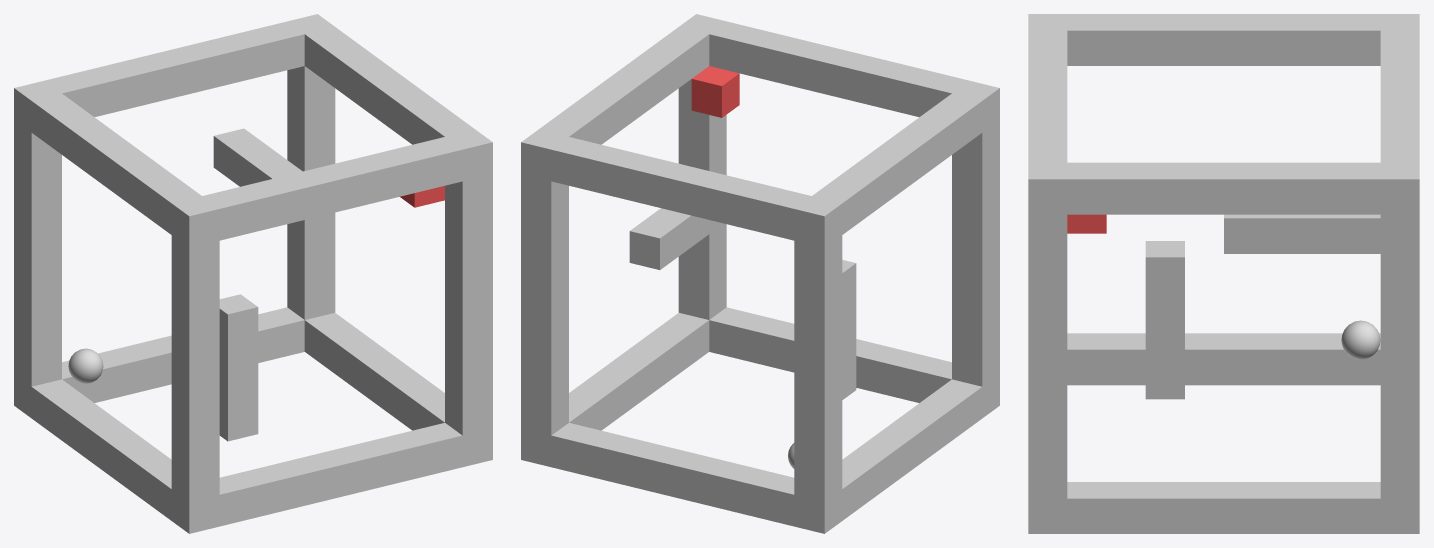
Rendered from plateau.fbx.
The picture shows the model from 3 angles, left to right: view 1: azimuth 30°, elevation 25°; view 2: azimuth 150°, elevation 25°; view 3: azimuth 270°, elevation 25°; orthographic projection. The views are drawn at different scales.
Parts seen in each view (by area): view 1: Cube, Cube_4, Cube_2, Cube_3, mure_haut, mure_haut_2, Sphère, arrive; view 2: Cube, Cube_2, Cube_4, Cube_3, mure_haut_2, arrive, mure_haut; view 3: Cube, Cube_2, Cube_4, mure_haut, mure_haut_2, Sphère, arrive.
Part boxes in pixels (x1,y1,x2,y2): Cube: (14,14,492,533); Cube_4: (31,66,444,488); Cube_2: (62,34,444,430); Cube_3: (62,66,462,494); mure_haut: (219,294,258,441); mure_haut_2: (213,128,302,186); Sphère: (68,348,103,383); arrive: (400,186,444,207); Cube: (521,14,999,533); Cube_2: (569,34,951,430); Cube_4: (569,79,982,488); Cube_3: (551,115,951,494); mure_haut_2: (629,208,723,269); arrive: (691,66,739,117); mure_haut: (842,260,856,399); Cube: (1028,14,1419,533); Cube_2: (1067,30,1380,385); Cube_4: (1067,333,1380,498); mure_haut: (1145,241,1184,399); mure_haut_2: (1224,214,1380,253); Sphère: (1341,320,1380,359); arrive: (1067,214,1106,233).
Bounding box in the file's own units: 200 × 200 × 200.
